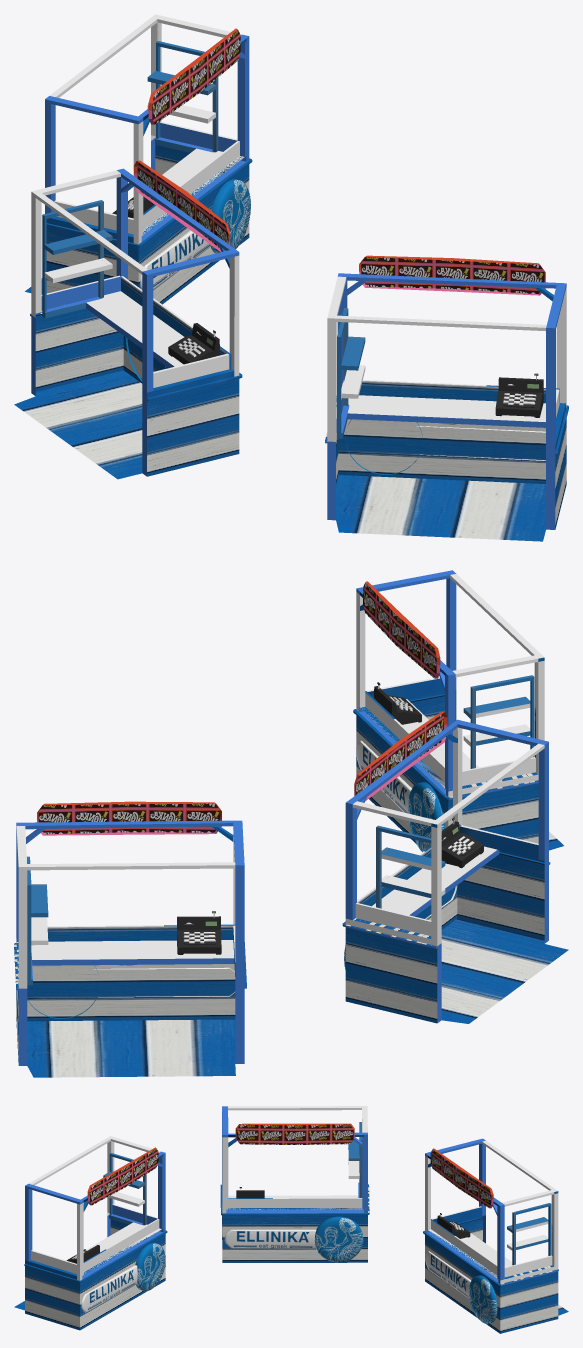
The model's file is PUESTO_WONKA_3D.glb.
3 renders of one model, top to bottom at view 1: azimuth 30°, elevation 25°; view 2: azimuth 150°, elevation 25°; view 3: azimuth 270°, elevation 25°, orthographic. The views are drawn at different scales.
Visible parts, largest first — view 1: PUESTO, PUESTO.001, PUESTO.002, WONKA_BAR, WONKA_BAR.002, WONKA_BAR.001, CAJA_REGISTRADURA, ELLINKA_LOGOTIPO.002, ELLINKA_LOGO.002, CAJA_REGISTRADURA.001; view 2: PUESTO.002, PUESTO.001, PUESTO, WONKA_BAR.002, WONKA_BAR, WONKA_BAR.001, CAJA_REGISTRADURA.002, ELLINKA_LOGOTIPO, CAJA_REGISTRADURA.001, ELLINKA_LOGO, CAJA_REGISTRADURA; view 3: PUESTO.002, PUESTO, PUESTO.001, WONKA_BAR.001, ELLINKA_LOGOTIPO.001, ELLINKA_LOGO.001, WONKA_BAR, WONKA_BAR.002, ELLINKA_LOGOTIPO, ELLINKA_LOGO, ELLINKA_LOGOTIPO.002, ELLINKA_LOGO.002 (+1 smaller).
Boxes of the visible parts, x1,y1,x2,y2 form: PUESTO: (325, 273, 568, 541); PUESTO.001: (14, 168, 242, 479); PUESTO.002: (25, 14, 252, 304); WONKA_BAR: (359, 255, 545, 295); WONKA_BAR.002: (148, 28, 240, 124); WONKA_BAR.001: (133, 160, 230, 251); CAJA_REGISTRADURA: (495, 373, 543, 417); ELLINKA_LOGOTIPO.002: (211, 179, 250, 253); ELLINKA_LOGO.002: (140, 230, 211, 289); CAJA_REGISTRADURA.001: (168, 323, 219, 364); PUESTO.002: (14, 820, 246, 1077); PUESTO.001: (342, 719, 568, 1023); PUESTO: (353, 570, 563, 850); WONKA_BAR.002: (37, 801, 221, 835); WONKA_BAR: (363, 581, 440, 678); WONKA_BAR.001: (354, 712, 447, 800); CAJA_REGISTRADURA.002: (177, 911, 221, 954); ELLINKA_LOGOTIPO: (408, 782, 444, 851); CAJA_REGISTRADURA.001: (441, 817, 483, 868); ELLINKA_LOGO: (356, 740, 411, 813); CAJA_REGISTRADURA: (374, 682, 421, 724); PUESTO.002: (423, 1138, 568, 1333); PUESTO: (14, 1136, 167, 1330); PUESTO.001: (220, 1106, 369, 1262); WONKA_BAR.001: (235, 1123, 354, 1144); ELLINKA_LOGOTIPO.001: (314, 1216, 363, 1262); ELLINKA_LOGO.001: (224, 1229, 316, 1248); WONKA_BAR: (87, 1147, 158, 1205); WONKA_BAR.002: (430, 1148, 493, 1208); ELLINKA_LOGOTIPO: (135, 1243, 165, 1291); ELLINKA_LOGO: (81, 1265, 137, 1312); ELLINKA_LOGOTIPO.002: (469, 1275, 497, 1323); ELLINKA_LOGO.002: (425, 1251, 471, 1298).
Size of what is drawn, in the model's own units: 8.69 by 5.25 by 18.84.
9 materials, 4 textured.
